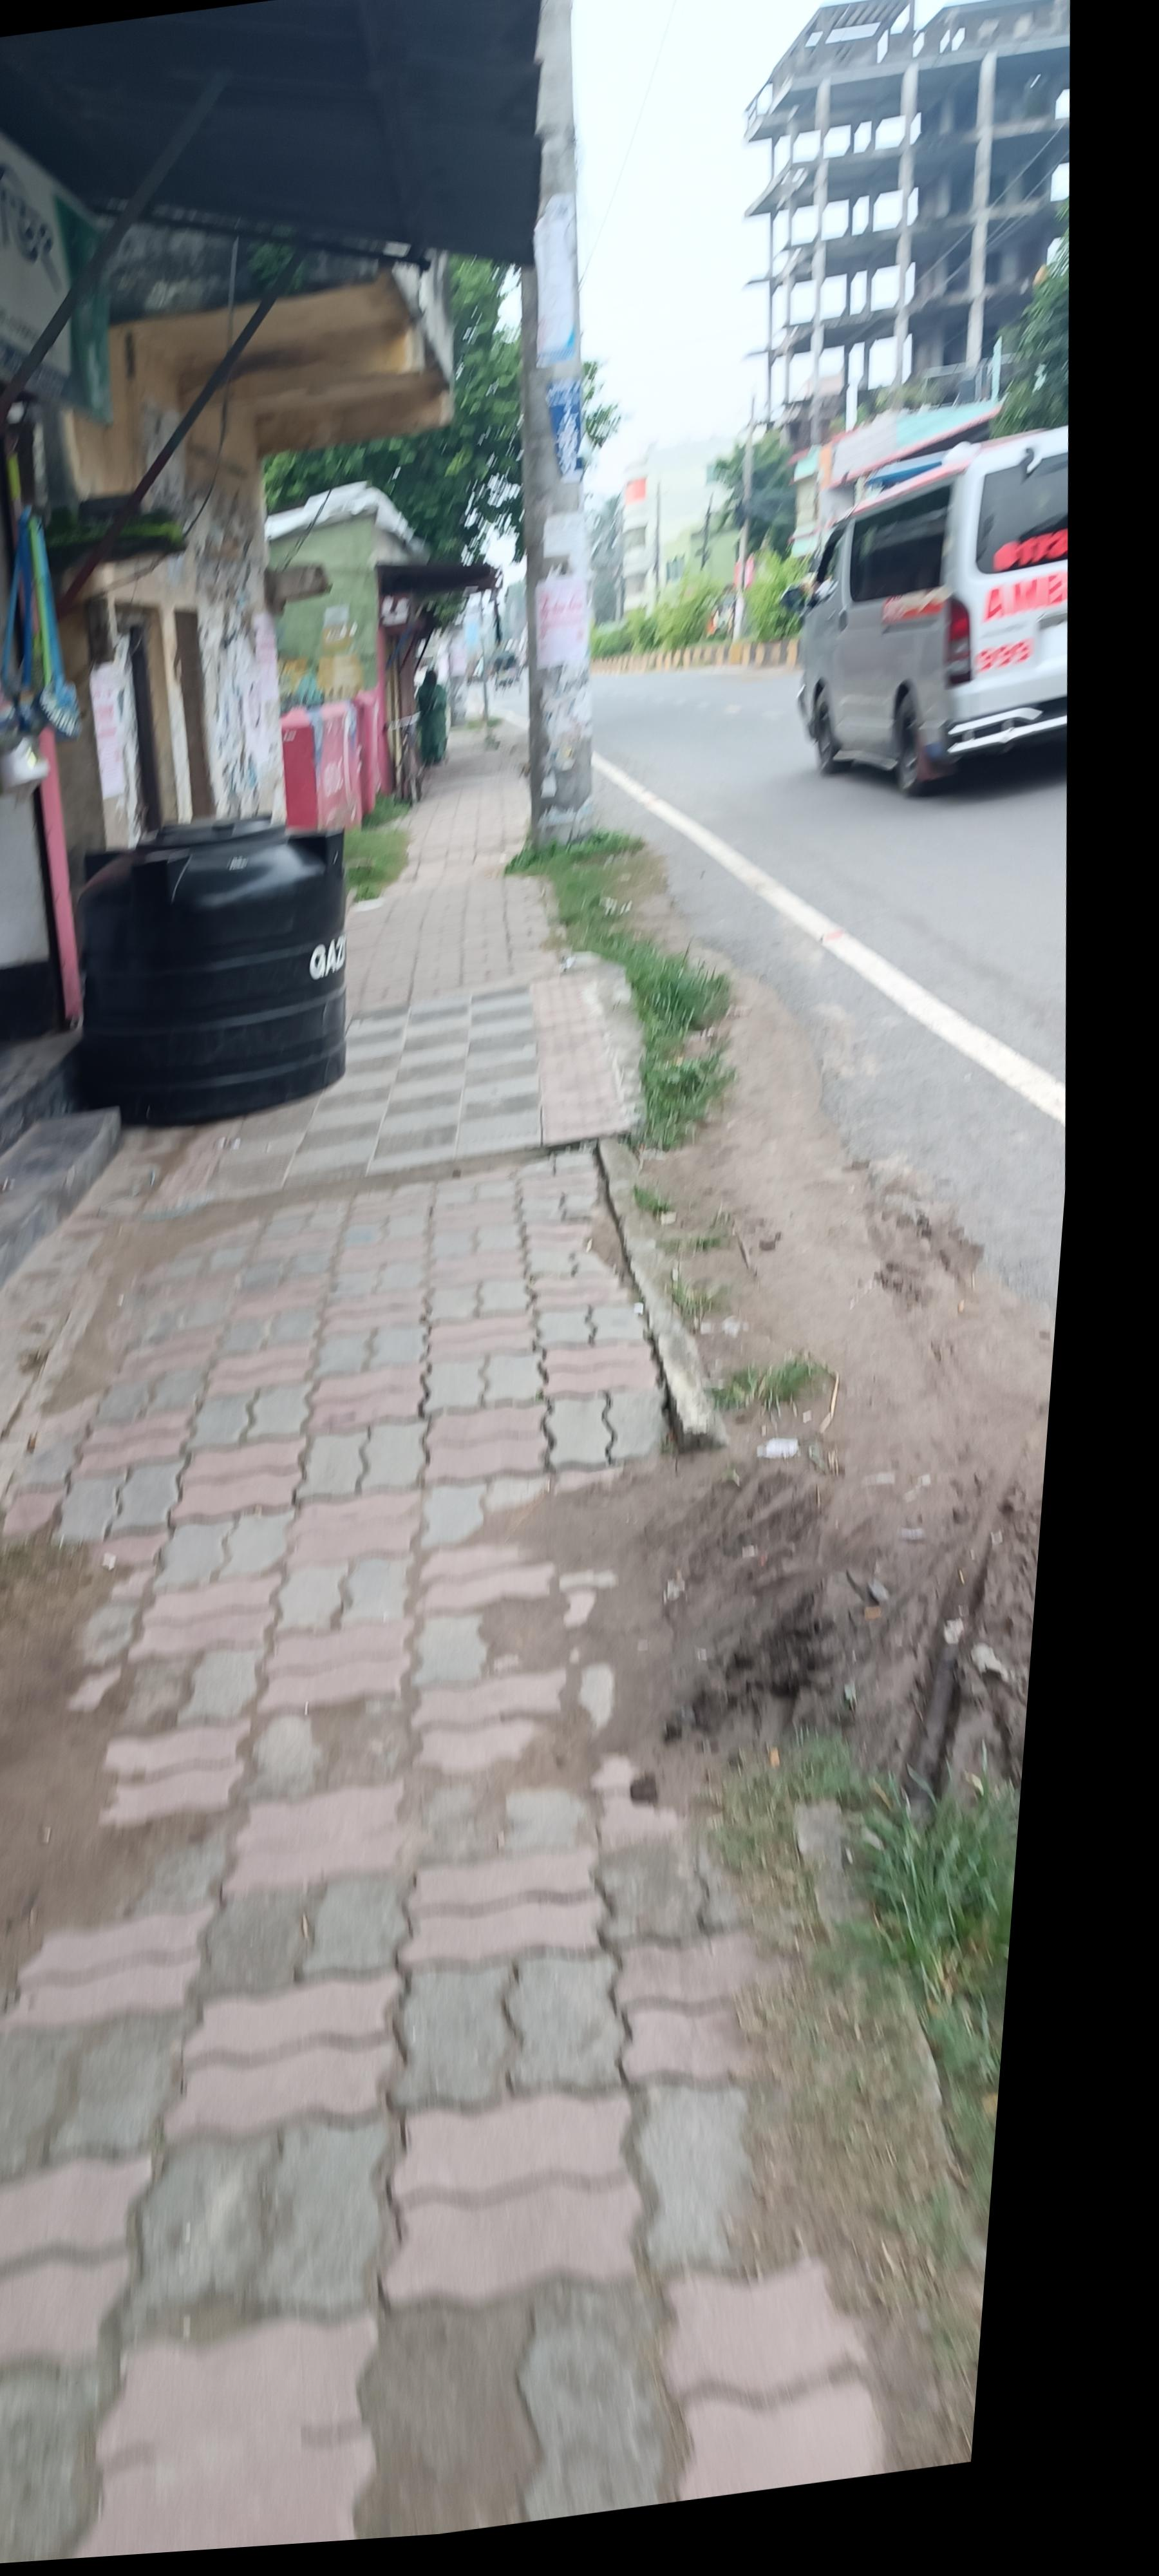Dog: (0, 846, 299, 1191)
Garbage-bin: (335, 718, 381, 820)
Light-pole: (383, 8, 576, 912)
Pothole: (0, 705, 951, 2576)
Traffic-cone: (650, 470, 1018, 922)
